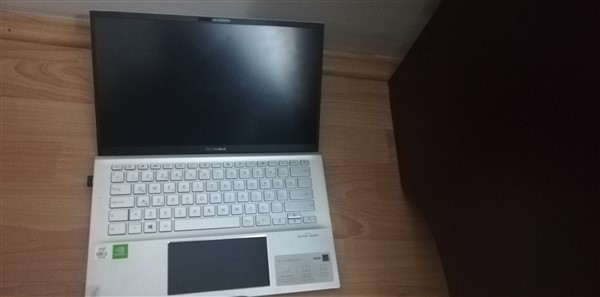laptop: (85, 8, 348, 296)
